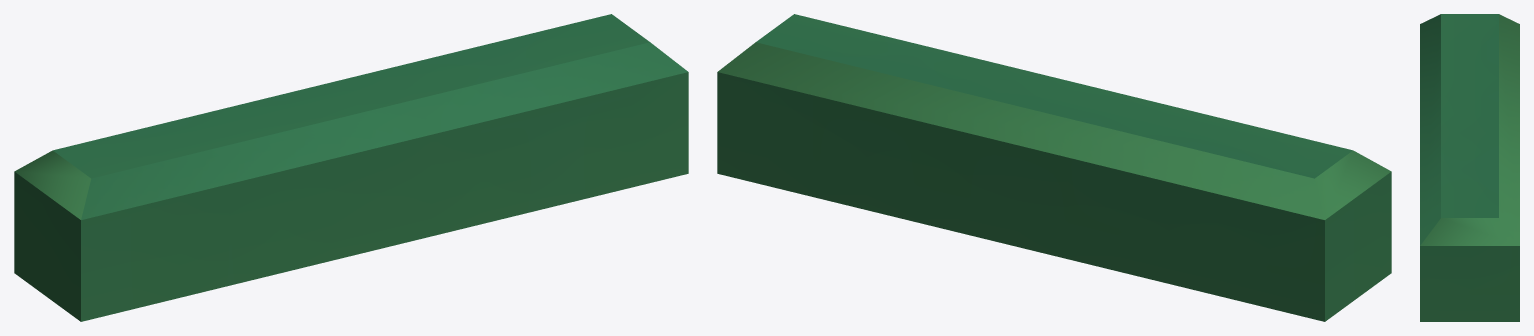
File: hedge.glb
The picture shows the model from 3 angles, left to right: view 1: azimuth 30°, elevation 25°; view 2: azimuth 150°, elevation 25°; view 3: azimuth 270°, elevation 25°; orthographic projection. The views are drawn at different scales.
Parts seen in each view (by area): view 1: hedge; view 2: hedge; view 3: hedge.
Part boxes in pixels (x1=…): hedge: x1=14, y1=14, x2=688, y2=321; hedge: x1=717, y1=14, x2=1391, y2=321; hedge: x1=1420, y1=14, x2=1519, y2=321.
Bounding box in the file's own units: 1 × 0.2 × 0.19.
1 material, 1 textured.
